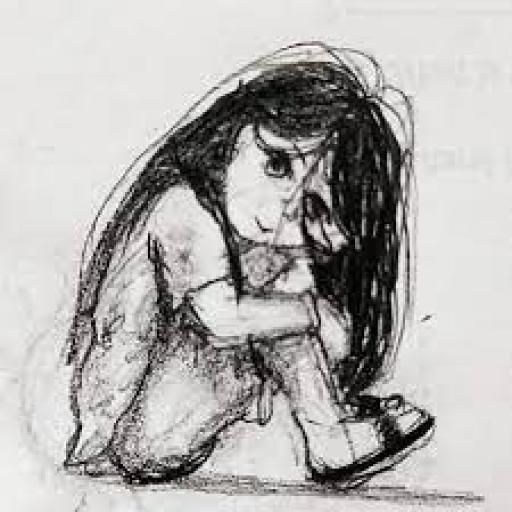person: (44, 34, 442, 499)
